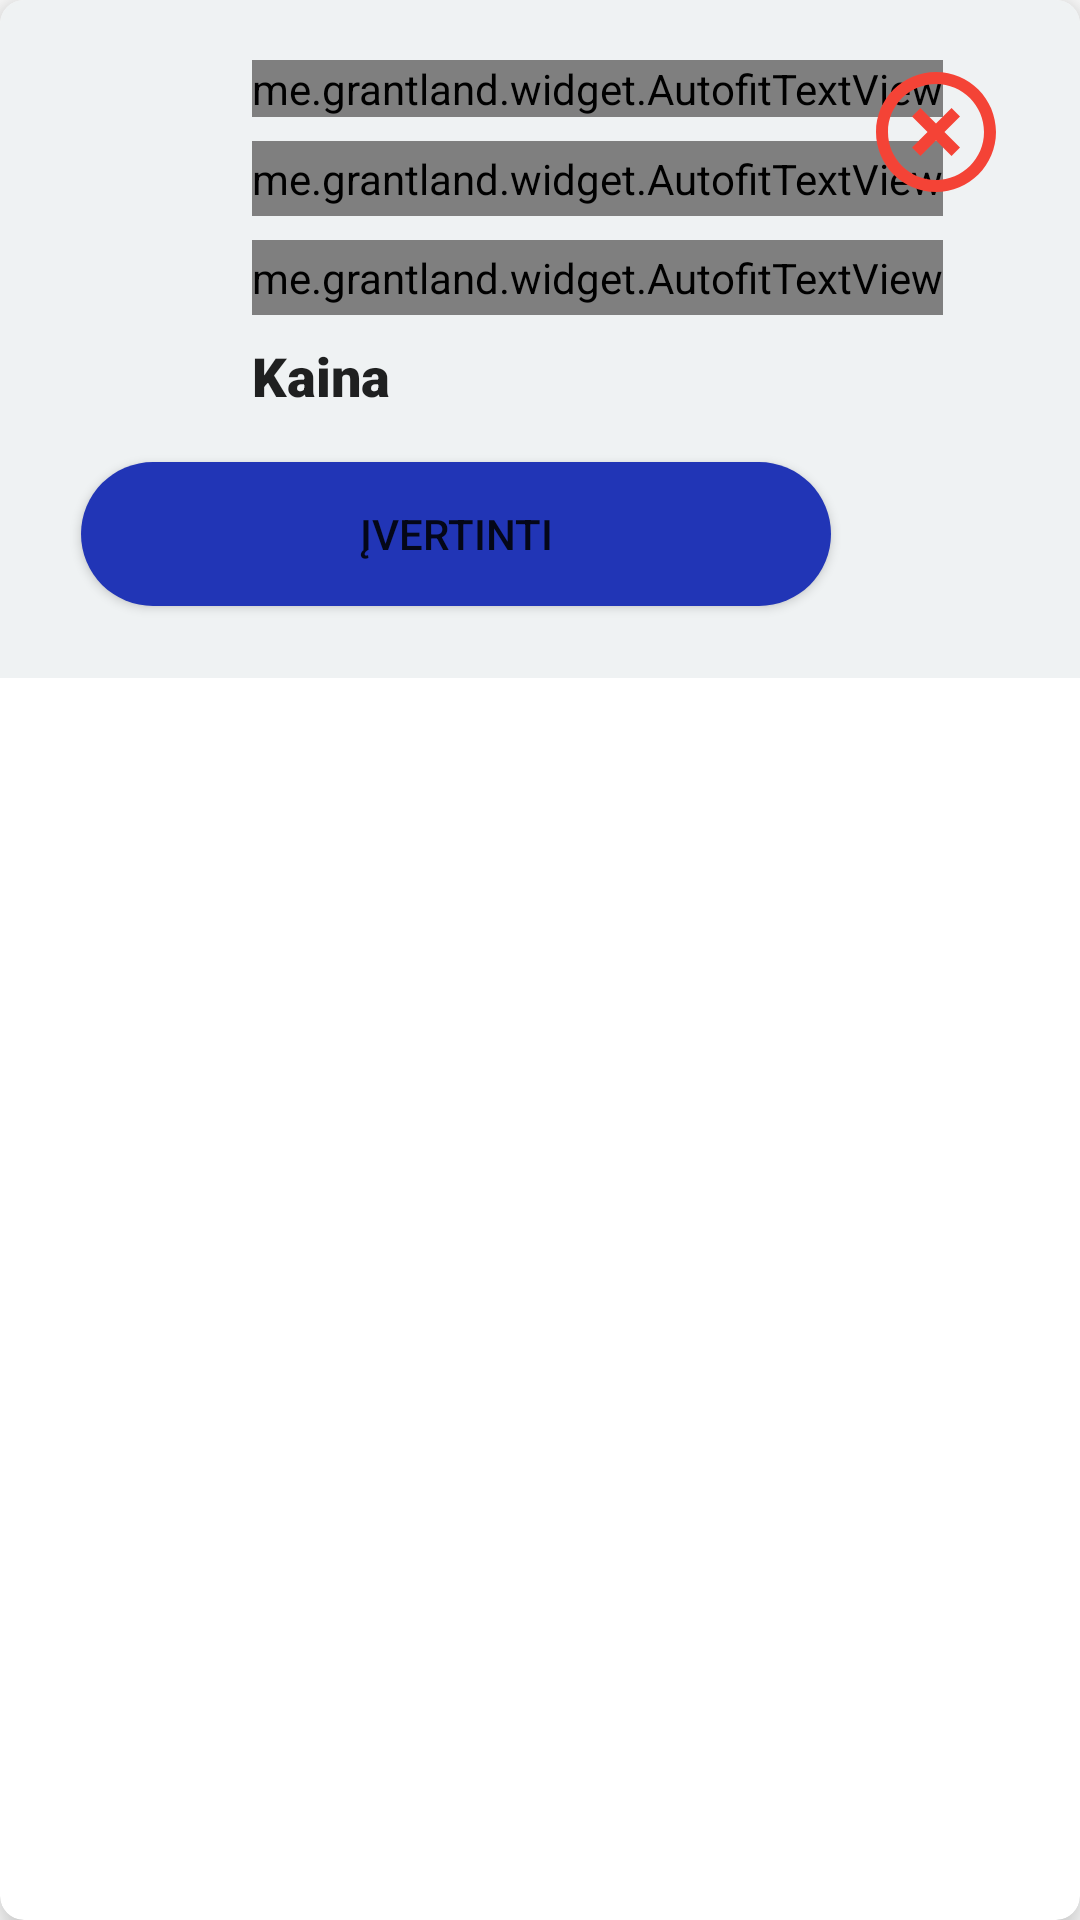

Where to tap for icons on this 1080 × 1920 app screen, as (x=x, y=y):
highlight off: (x=930, y=132)
